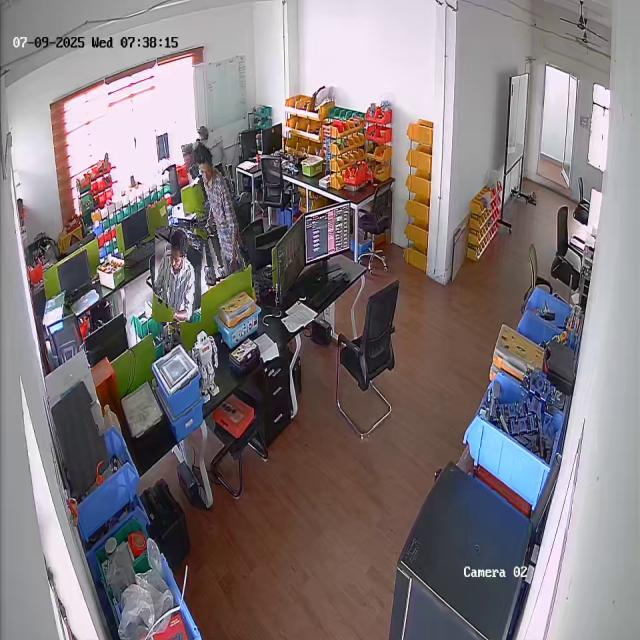person: (189, 138, 245, 277), (153, 227, 203, 323)
